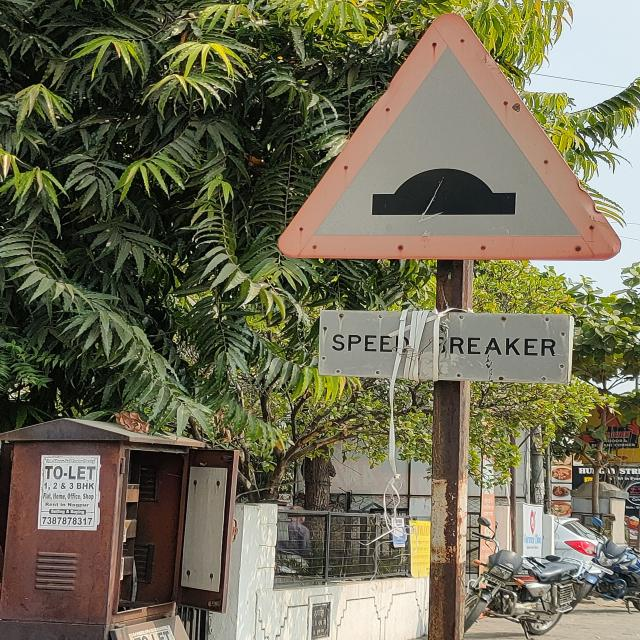horn_prohibited: (278, 14, 618, 262)
